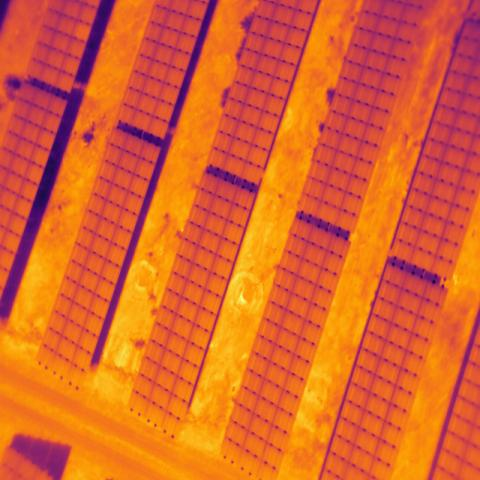fault: (72, 19, 92, 43)
